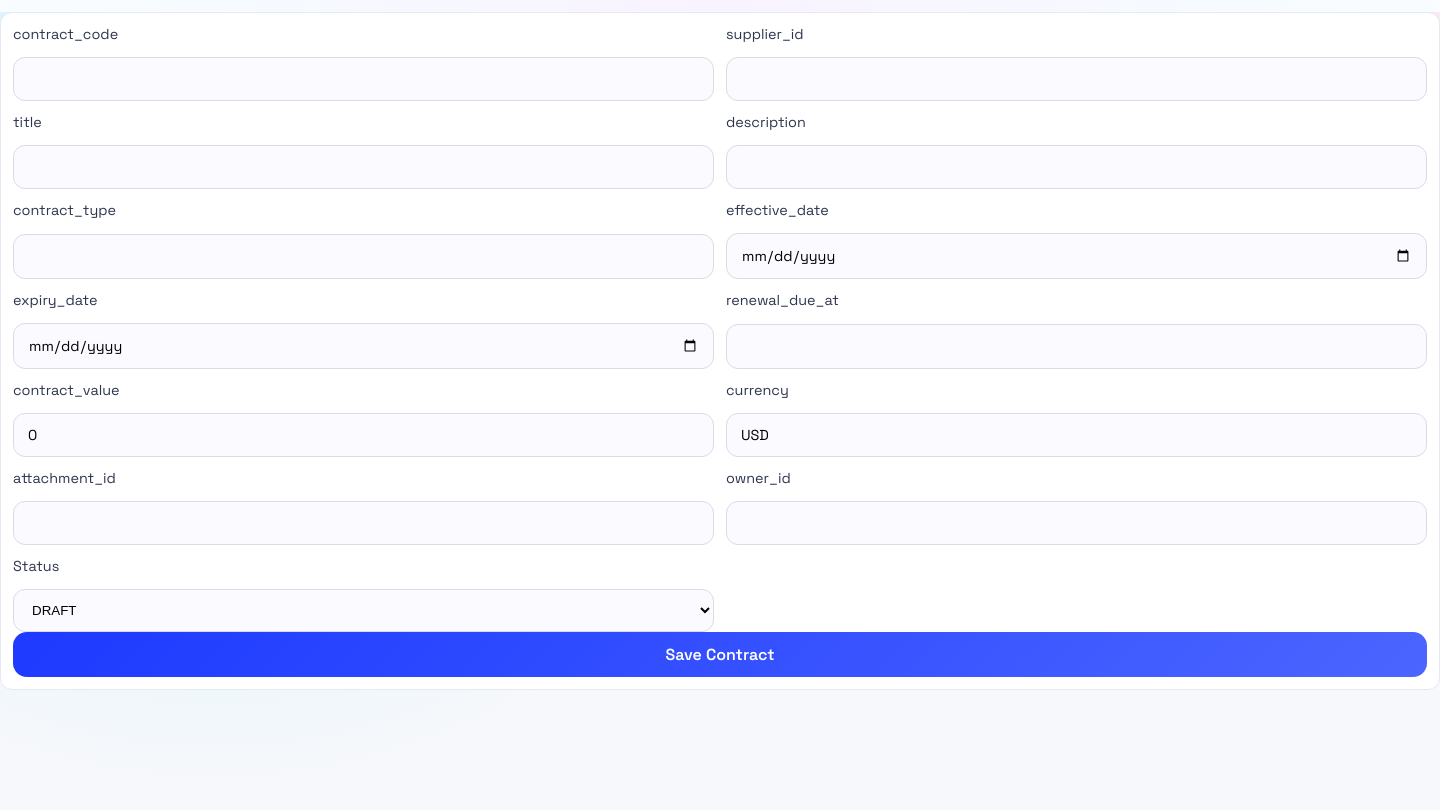
Test: Corporate forms › contract validation for dates/value and submit payload
Type "10" into the field labelled "supplier_id" at (1076, 79), box top-left (726, 57), bottom-right (1427, 101)
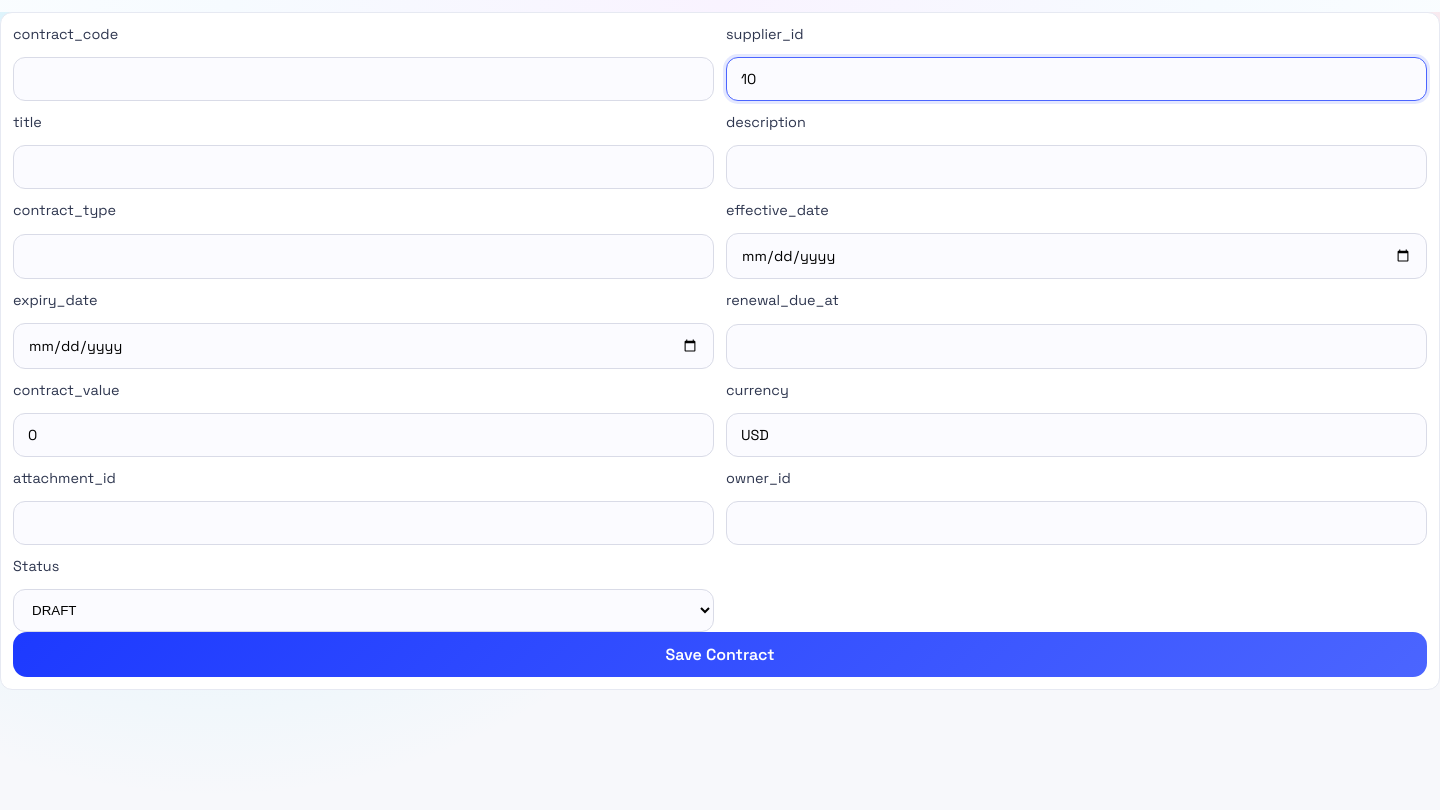
Type "Contract A" into the field labelled "title" at (364, 167), box top-left (13, 145), bottom-right (714, 189)
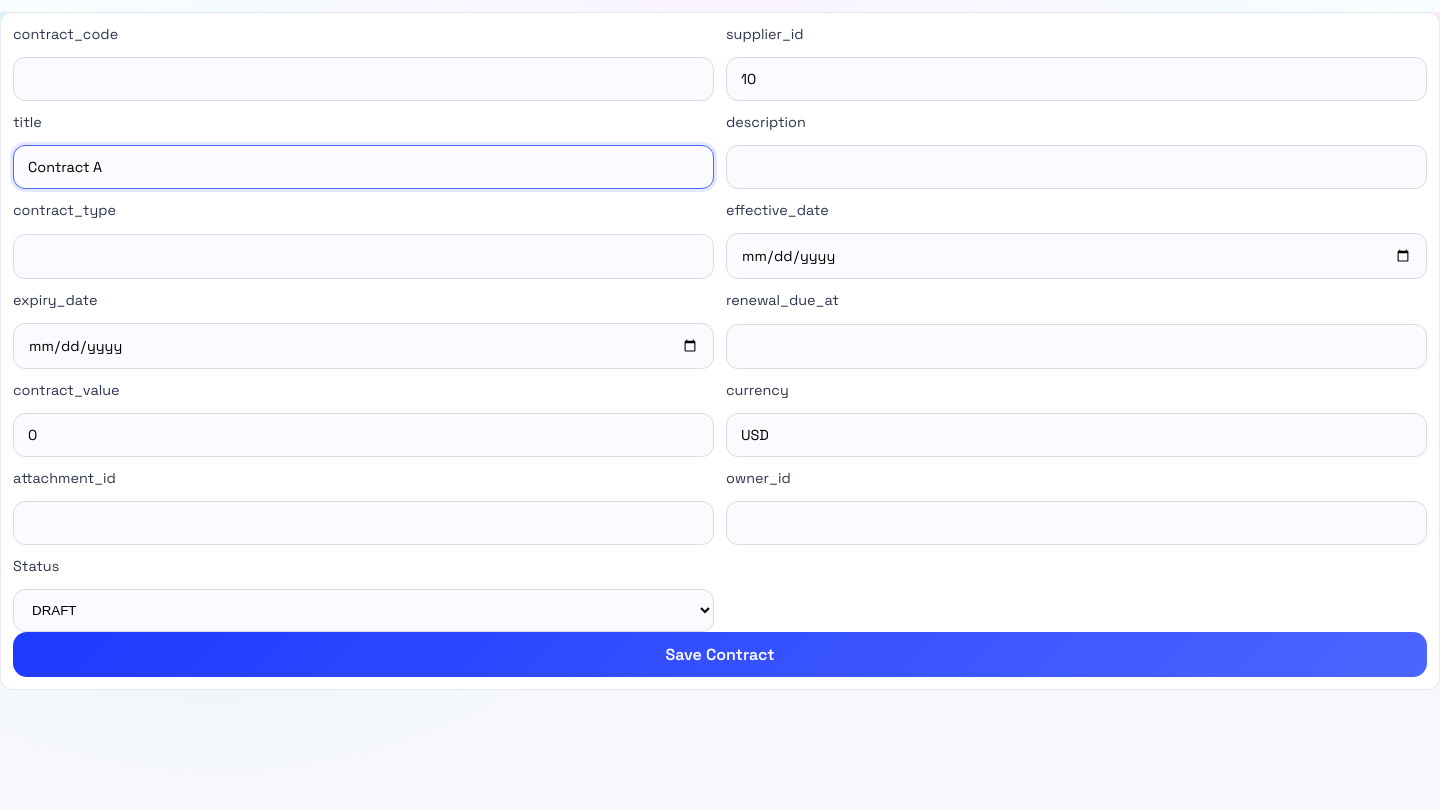
Type "2026-01-10" into the date field labelled "effective_date" at (1076, 256), box top-left (726, 233), bottom-right (1427, 279)
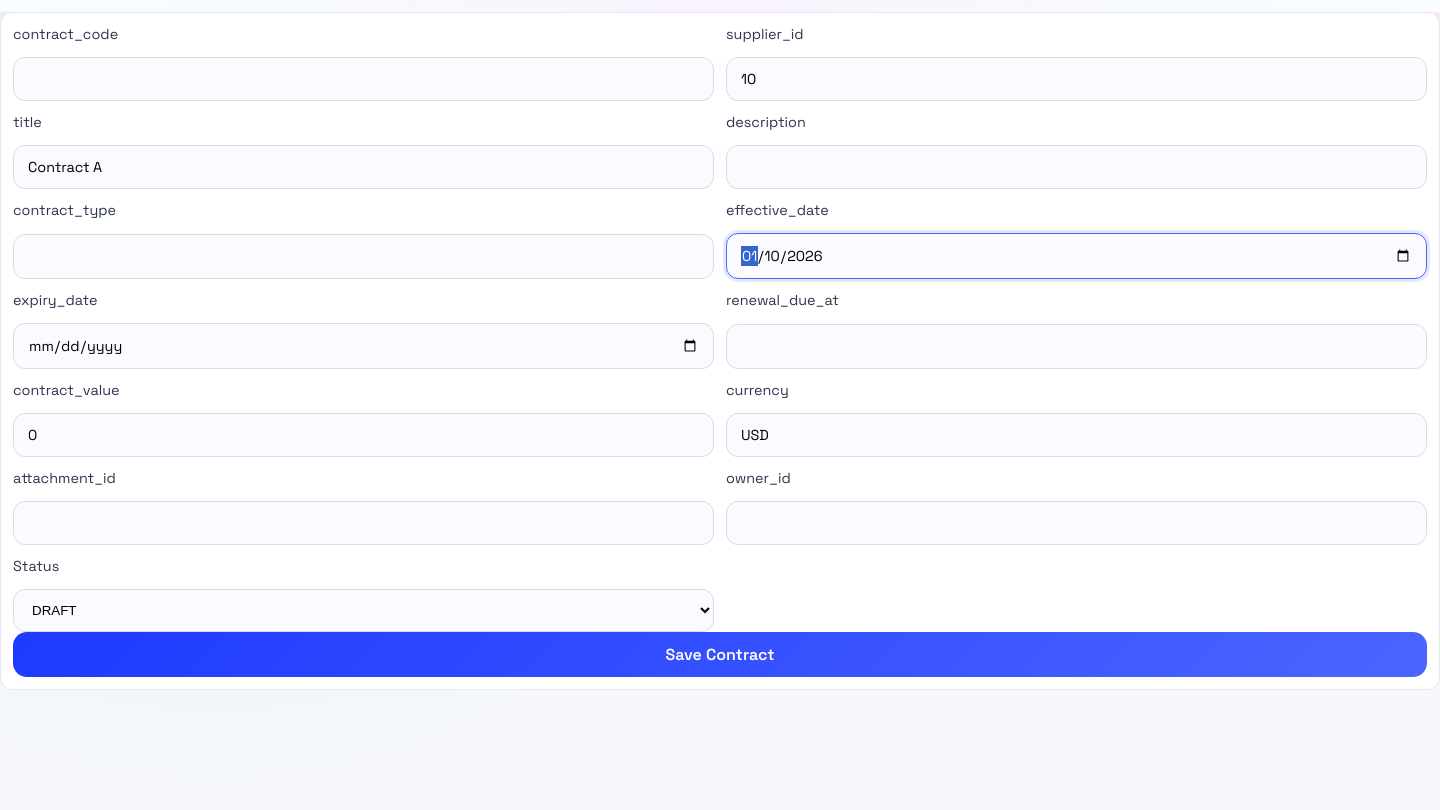
Type "2026-01-01" into the date field labelled "expiry_date" at (364, 346), box top-left (13, 323), bottom-right (714, 369)
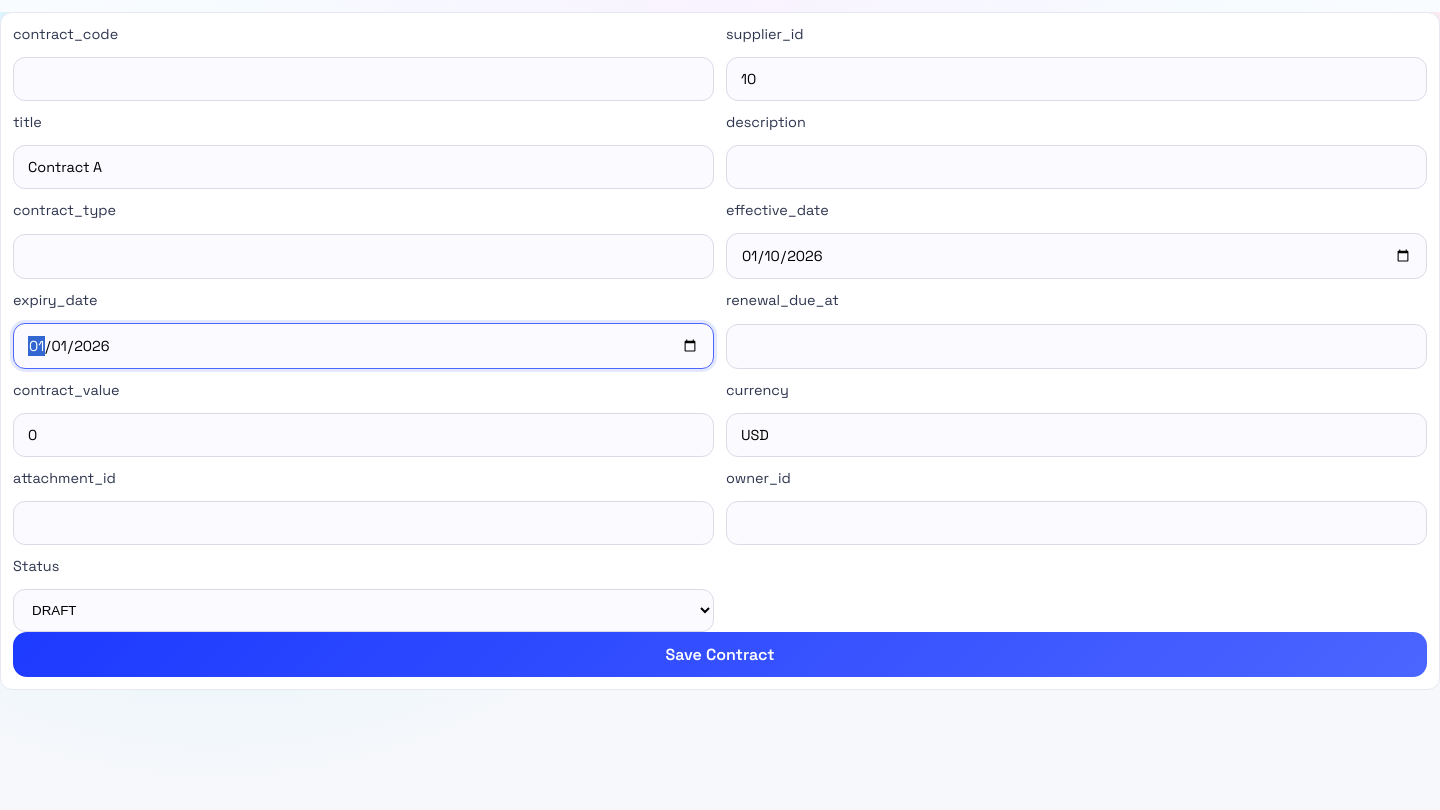
Replace the text in the field labelled "contract_value" with "-2" at (364, 435), box top-left (13, 413), bottom-right (714, 457)
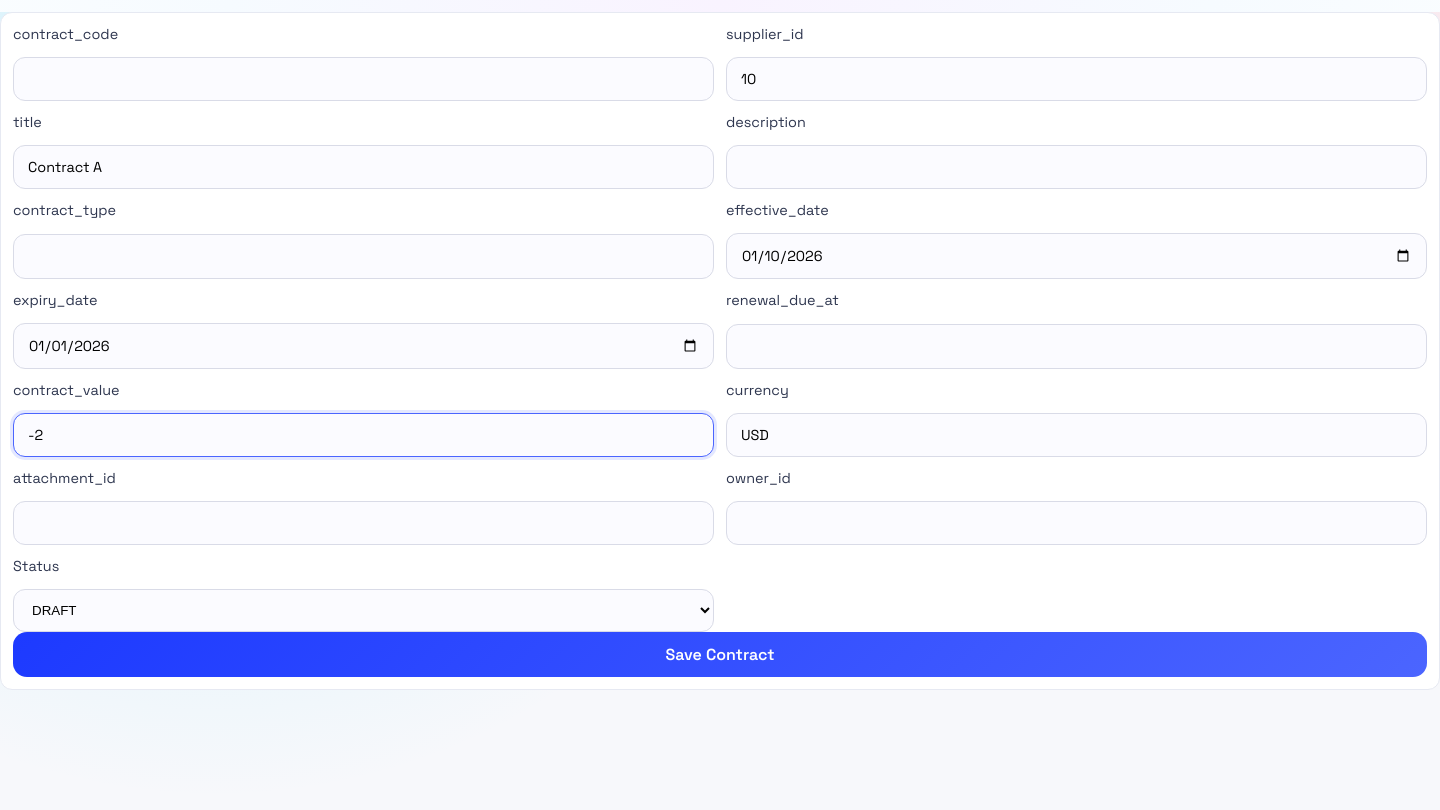
Click the button "Save Contract" at (720, 654), box top-left (13, 632), bottom-right (1427, 677)
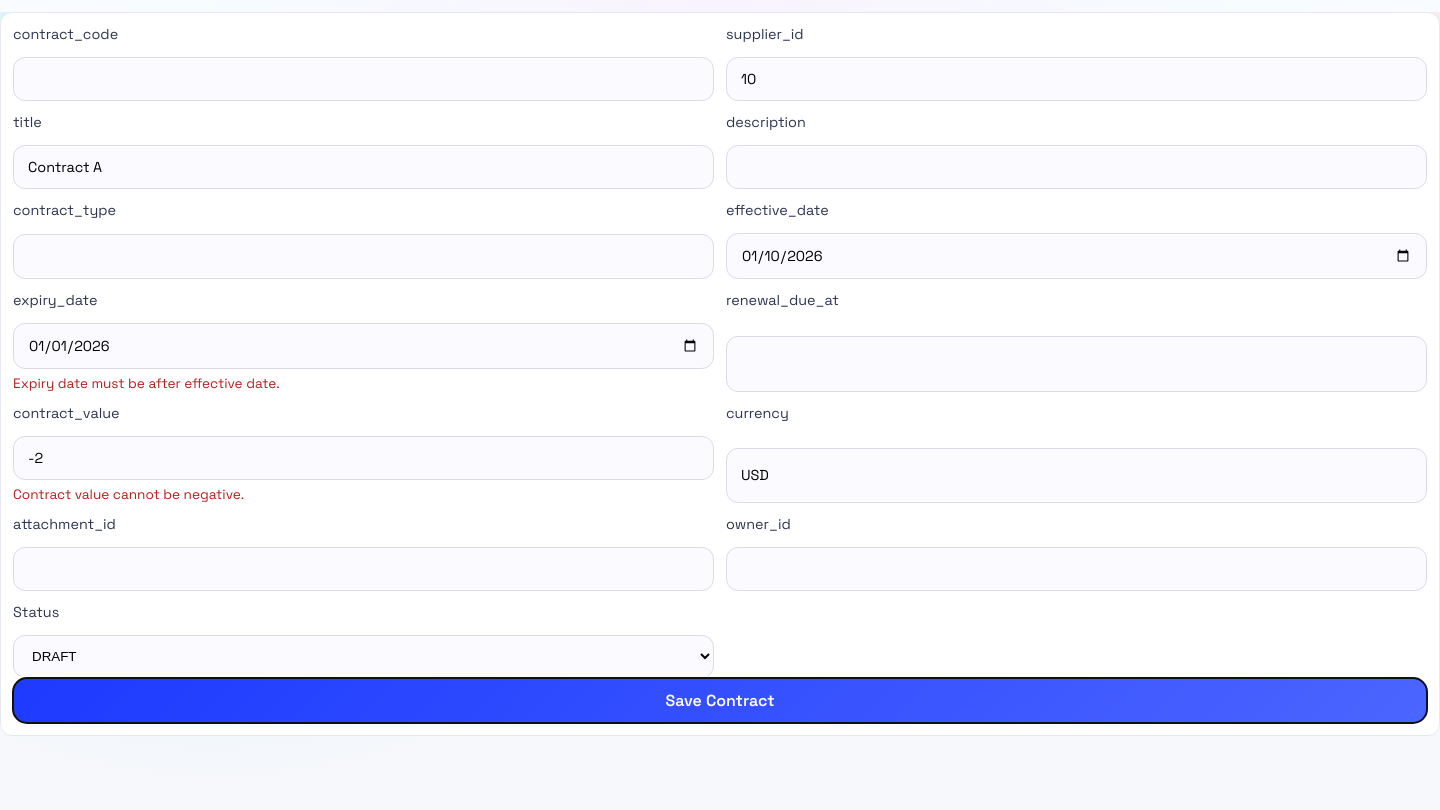
Now the text "Expiry date must be after effective date." is shown, box top-left (13, 375), bottom-right (280, 392)
Now the text "Contract value cannot be negative." is shown, box top-left (13, 486), bottom-right (244, 503)
